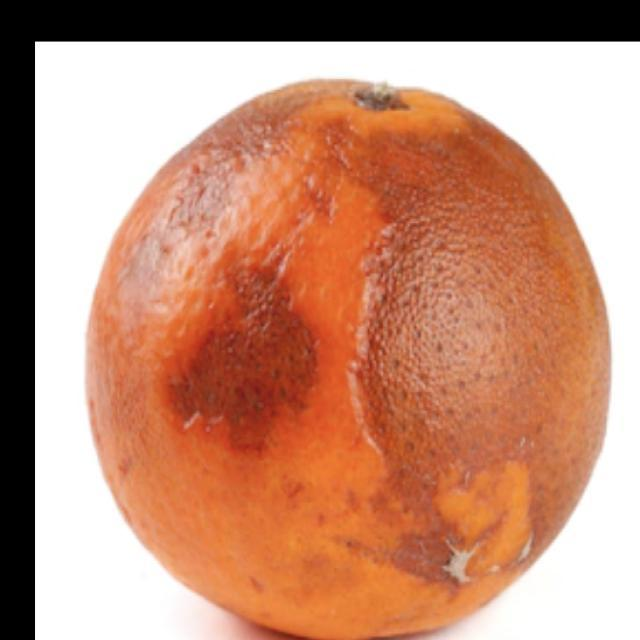sangat-busuk: (86, 80, 609, 639)
